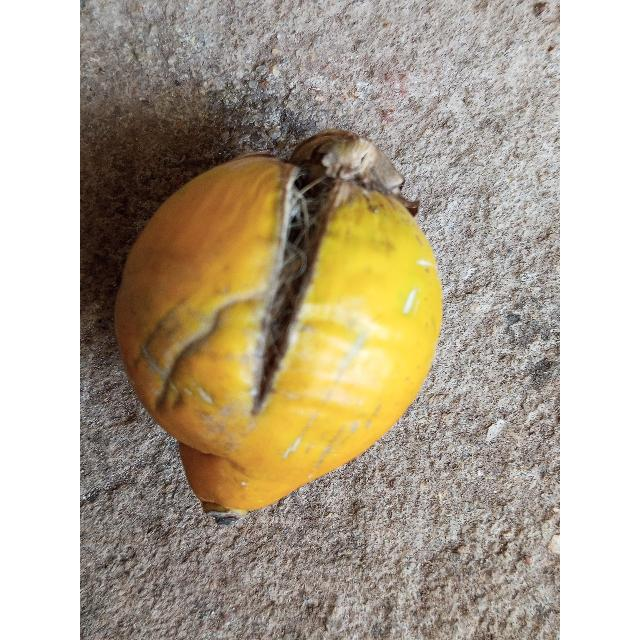damaged: (114, 131, 443, 516)
